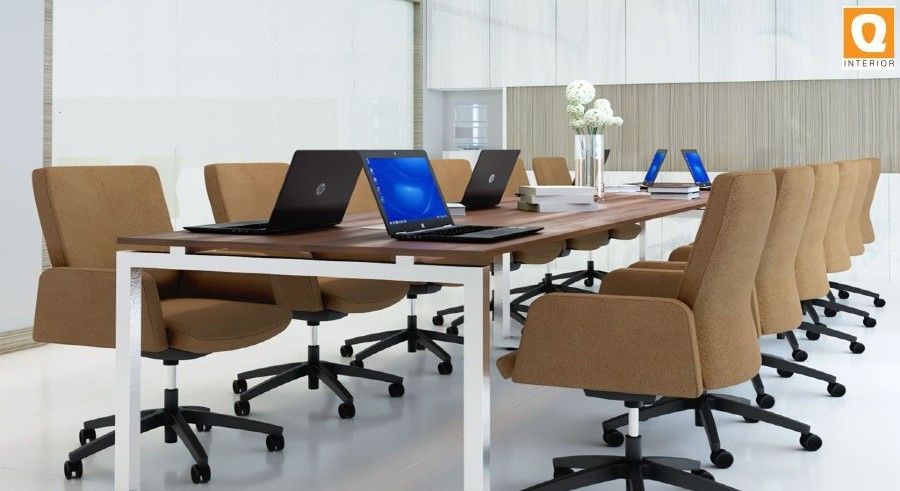conference_table: (116, 182, 731, 486)
